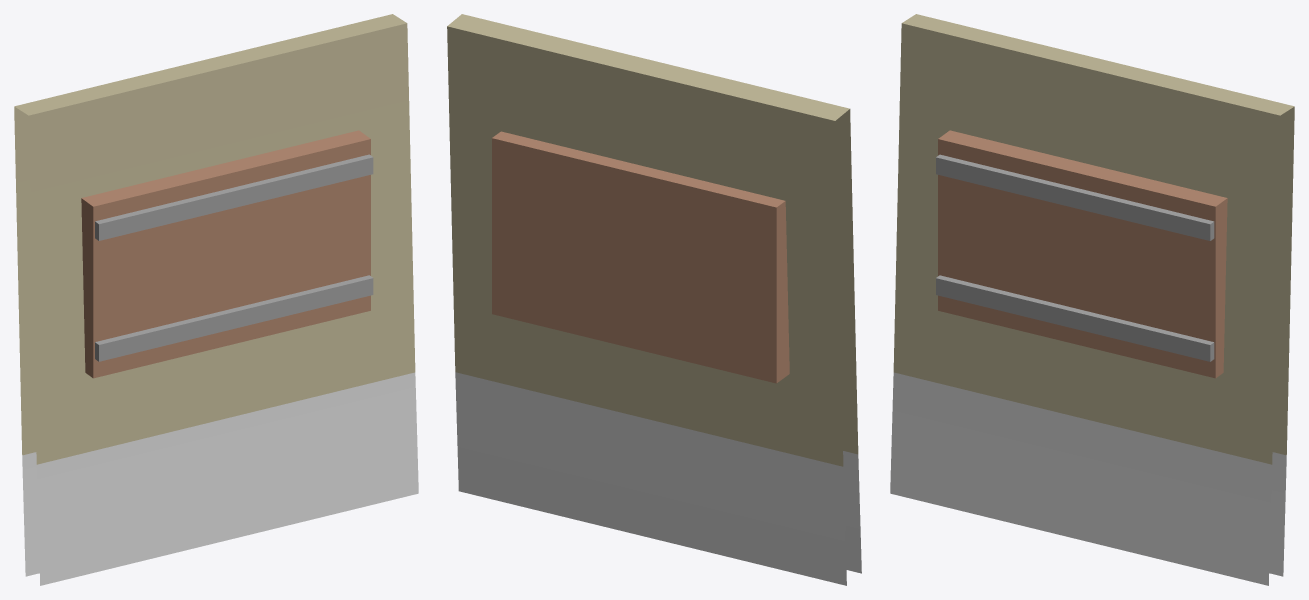
Rendered from WallWindow.fbx.
The picture shows the model from 3 angles, left to right: view 1: azimuth 30°, elevation 25°; view 2: azimuth 150°, elevation 25°; view 3: azimuth 330°, elevation 25°; orthographic projection. The views are drawn at different scales.
Parts seen in each view (by area): view 1: pCube19; view 2: pCube19; view 3: pCube19.
Part boxes in pixels (x1,y1,x2,y2): pCube19: (14,14,418,585); pCube19: (447,14,861,585); pCube19: (890,14,1294,585).
Bounding box in the file's own units: 300 × 351 × 53.94.
